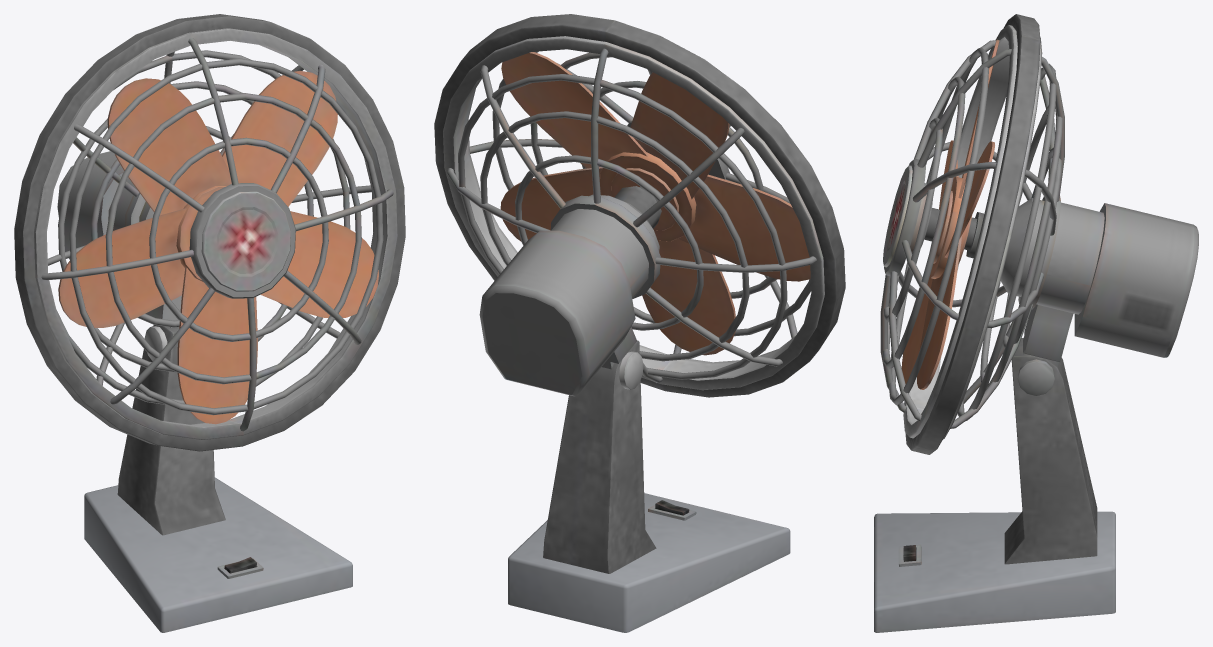
The model's file is Fan.glb.
The picture shows the model from 3 angles, left to right: view 1: azimuth 30°, elevation 25°; view 2: azimuth 150°, elevation 25°; view 3: azimuth 270°, elevation 25°; orthographic projection. The views are drawn at different scales.
Visible parts, largest first — view 1: Fan, Fan.001; view 2: Fan, Fan.001; view 3: Fan, Fan.001.
Part boxes in pixels (bbox=[...]): Fan: bbox=[14, 14, 405, 632]; Fan.001: bbox=[58, 70, 378, 424]; Fan: bbox=[434, 14, 845, 632]; Fan.001: bbox=[500, 52, 810, 355]; Fan: bbox=[874, 14, 1198, 632]; Fan.001: bbox=[901, 39, 999, 389].
Bounding box in the file's own units: 0.4923 × 0.6642 × 0.356.
1 material, 1 textured.
